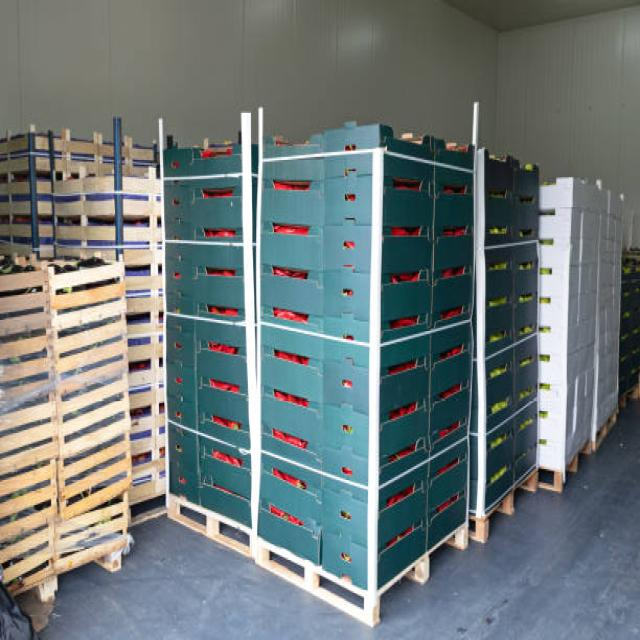Wooden-Pallets: (251, 535, 376, 627), (160, 487, 253, 568)
